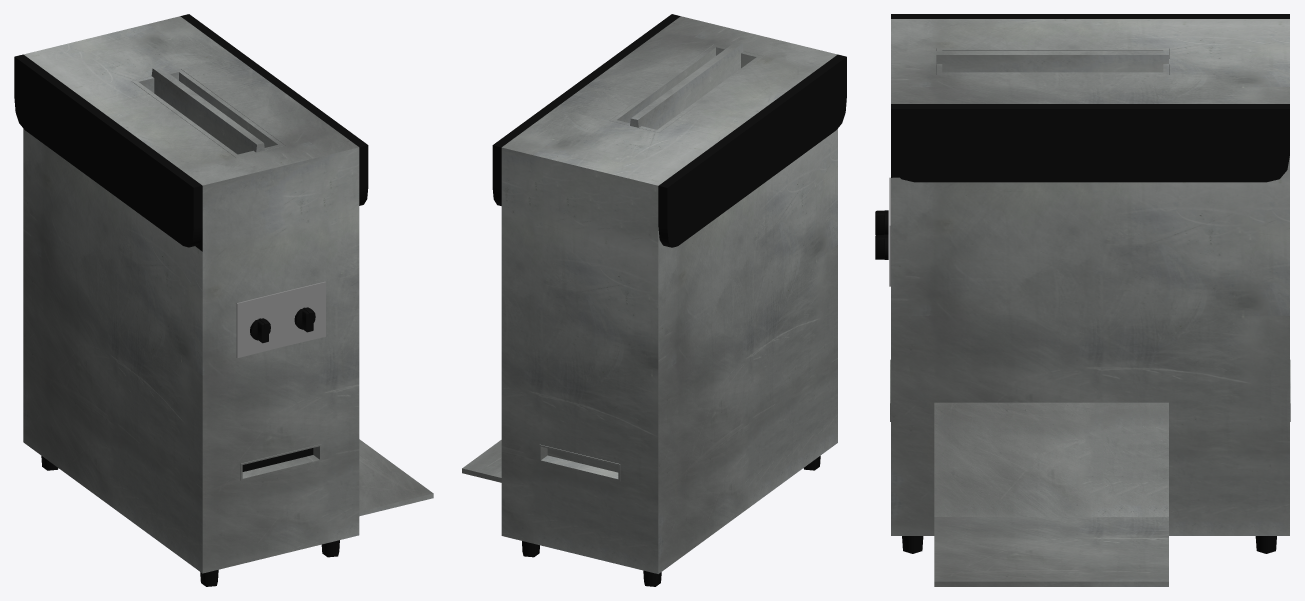
The model's file is kitchen_bun_machine.FBX.
3 views of the same model, side by side, from view 1: azimuth 30°, elevation 25°; view 2: azimuth 150°, elevation 25°; view 3: azimuth 270°, elevation 25° (orthographic). The views are drawn at different scales.
Parts seen in each view (by area): view 1: kitchen_bun_machine; view 2: kitchen_bun_machine; view 3: kitchen_bun_machine.
Part boxes in pixels (x1,y1,x2,y2): kitchen_bun_machine: [14, 14, 433, 586]; kitchen_bun_machine: [462, 14, 846, 586]; kitchen_bun_machine: [875, 14, 1290, 586].
Size of the model in its own units: 54.8 by 84.14 by 68.29.
